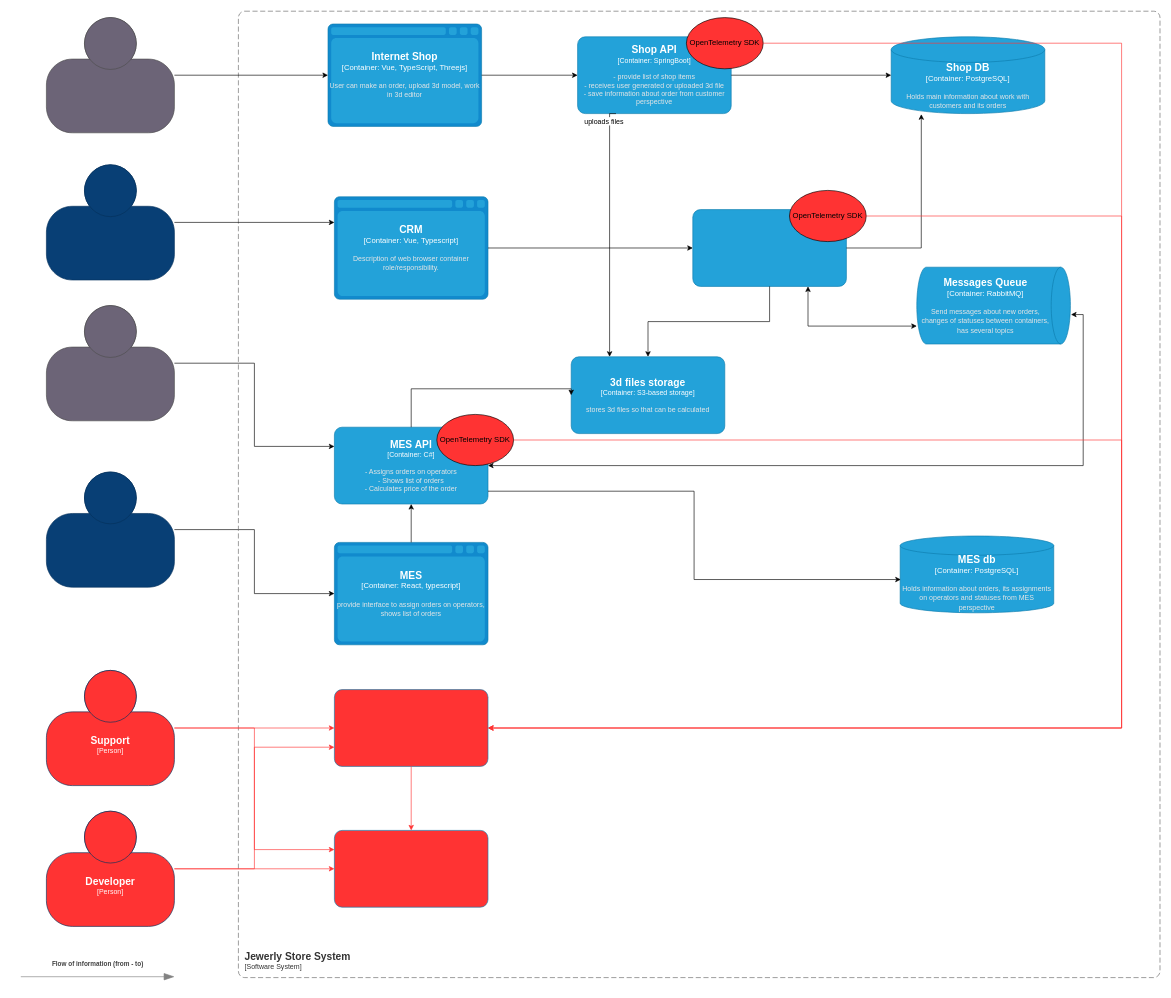
This 1171x998 diagram has some shape labels left out. The box of each missing label's shape, as (x1, y1, x2, y2) in pixels:
API user [Person] Description of external person.: (46, 305, 174, 421)
CRM API [Container: SpringBoot] Description of container role/responsibility.: (692, 209, 846, 286)
Customer [Person] Description of external person.: (46, 17, 174, 133)
Jaeger [Container: ]: (334, 830, 488, 907)
OpenTelemetry Collector [Container: ]: (334, 689, 488, 766)
Operator [Person] Takes order in work, manufactures jewerly: (46, 471, 174, 587)
Seller [Person] Operates with order, confirms manufacturing for the user: (46, 164, 174, 280)
